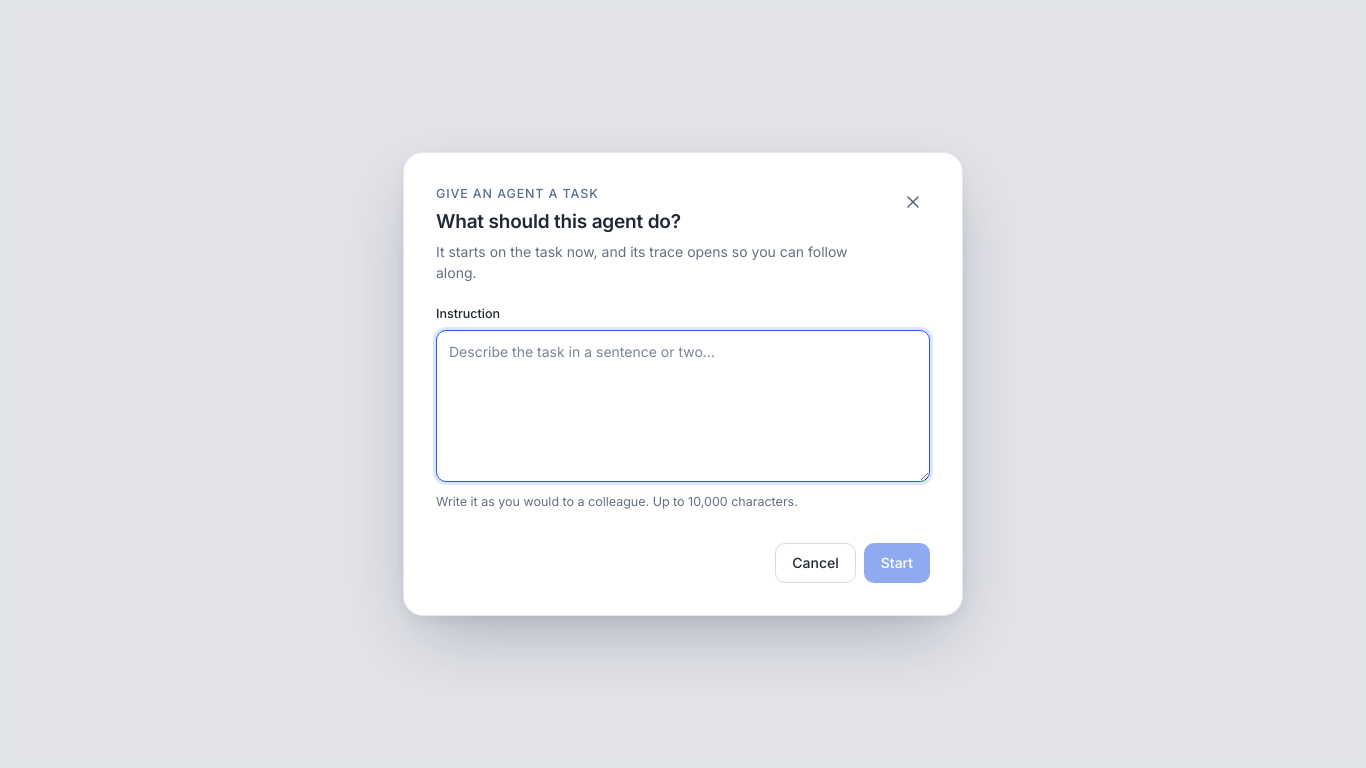
TaskDialog › keeps the dialog open with the reason when the task cannot be saved
Type "Check the stock levels" into the text box labelled "Instruction" at coordinates (683, 406), box [436,330,930,482]
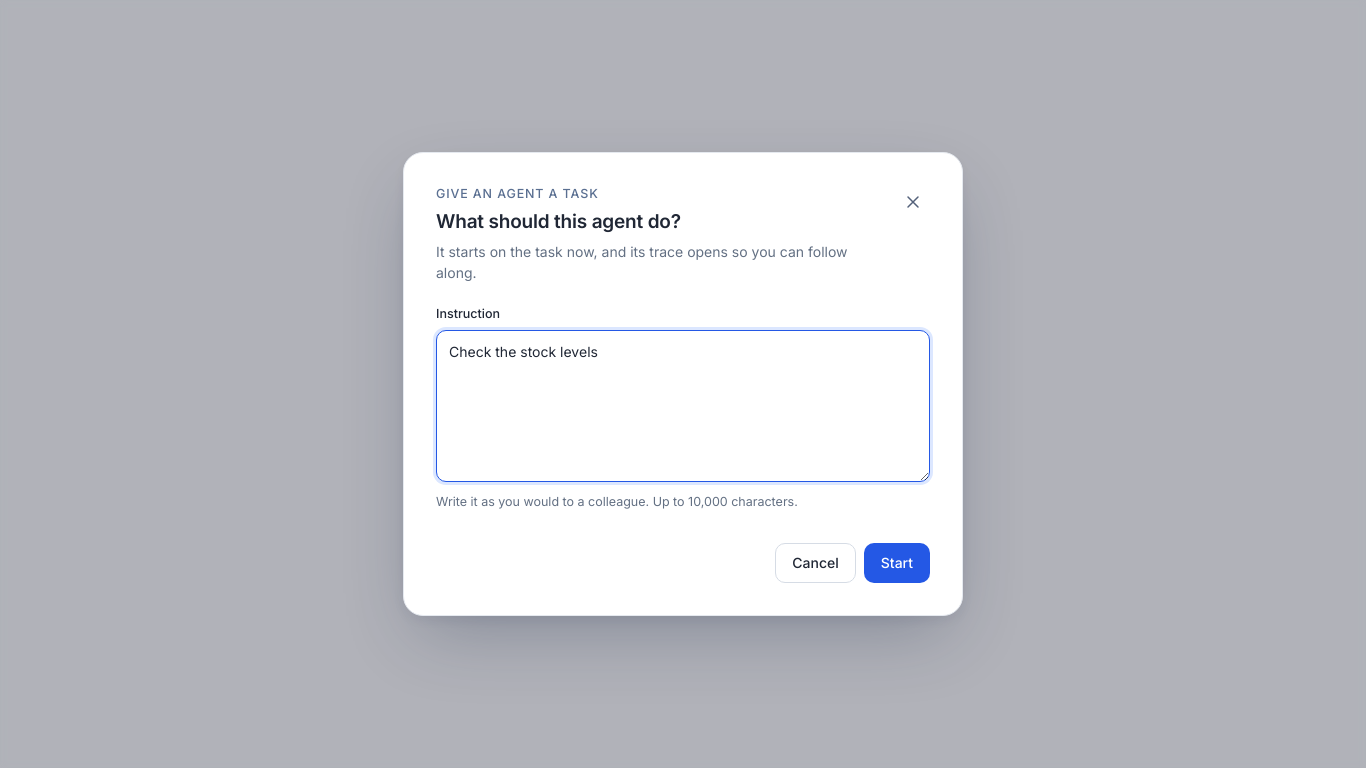
Click the button "Start" at coordinates (897, 563), box [864,543,930,583]
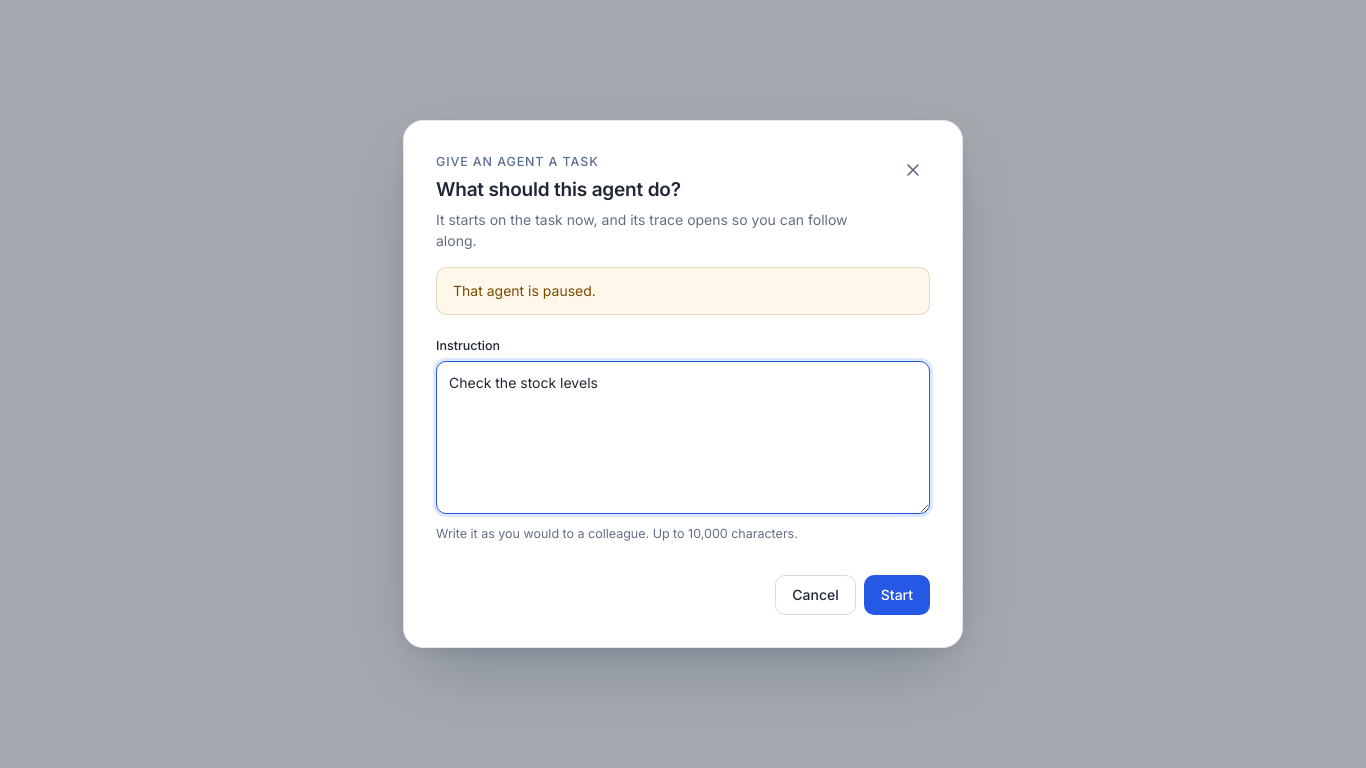
Expected: the text "That agent is paused." is shown, [453,282,596,299]
